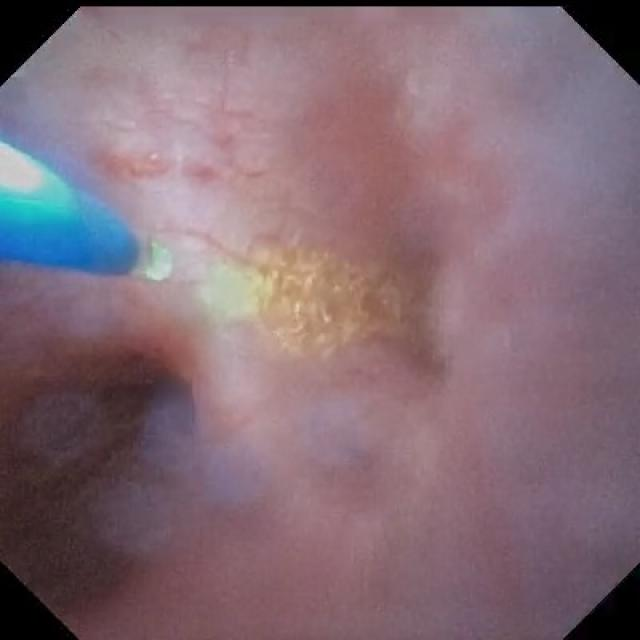laser-fibre: (129, 237, 172, 280)
laser_dot: (200, 258, 258, 318)
stone-new: (256, 246, 418, 352)
